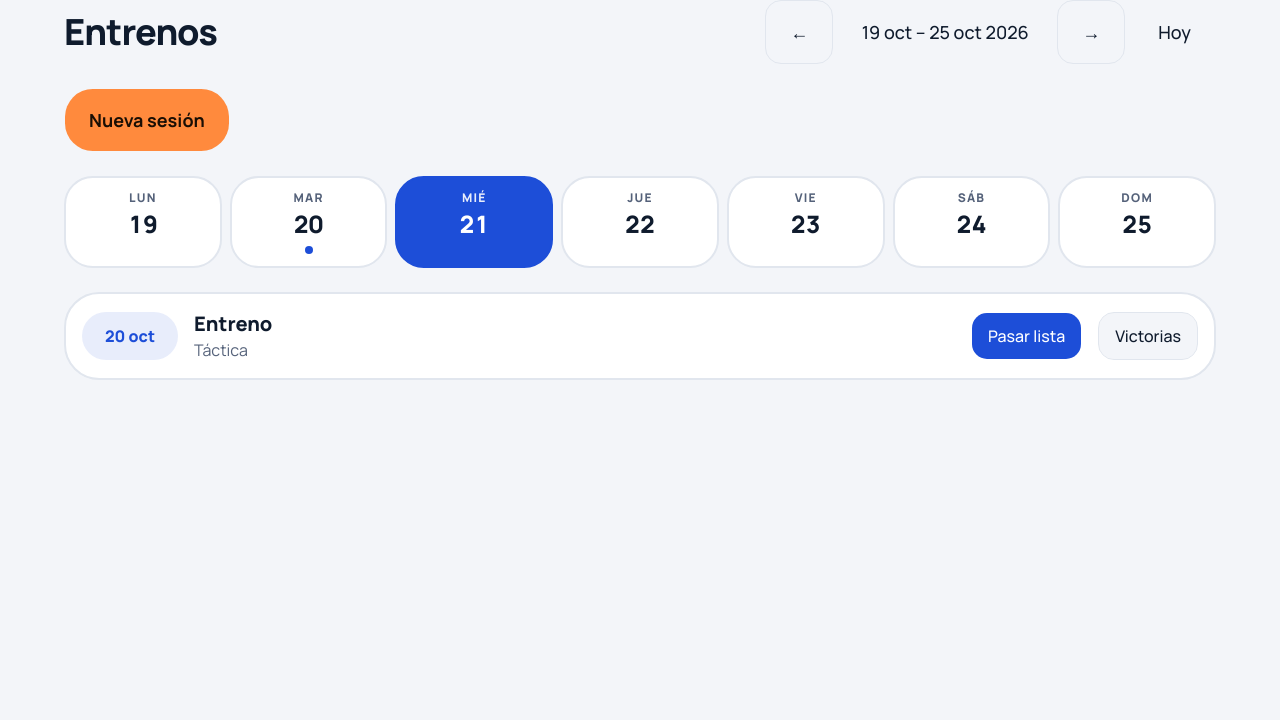
Test: EntrenosPage › pasa lista con todos como asistentes por defecto y guarda los registros
Expected: the text "Táctica" is shown, top-left (194, 339), bottom-right (248, 361)
Click the button with aria-label "Pasar lista: Entreno 20 oct" at (1027, 336), box top-left (971, 312), bottom-right (1082, 360)
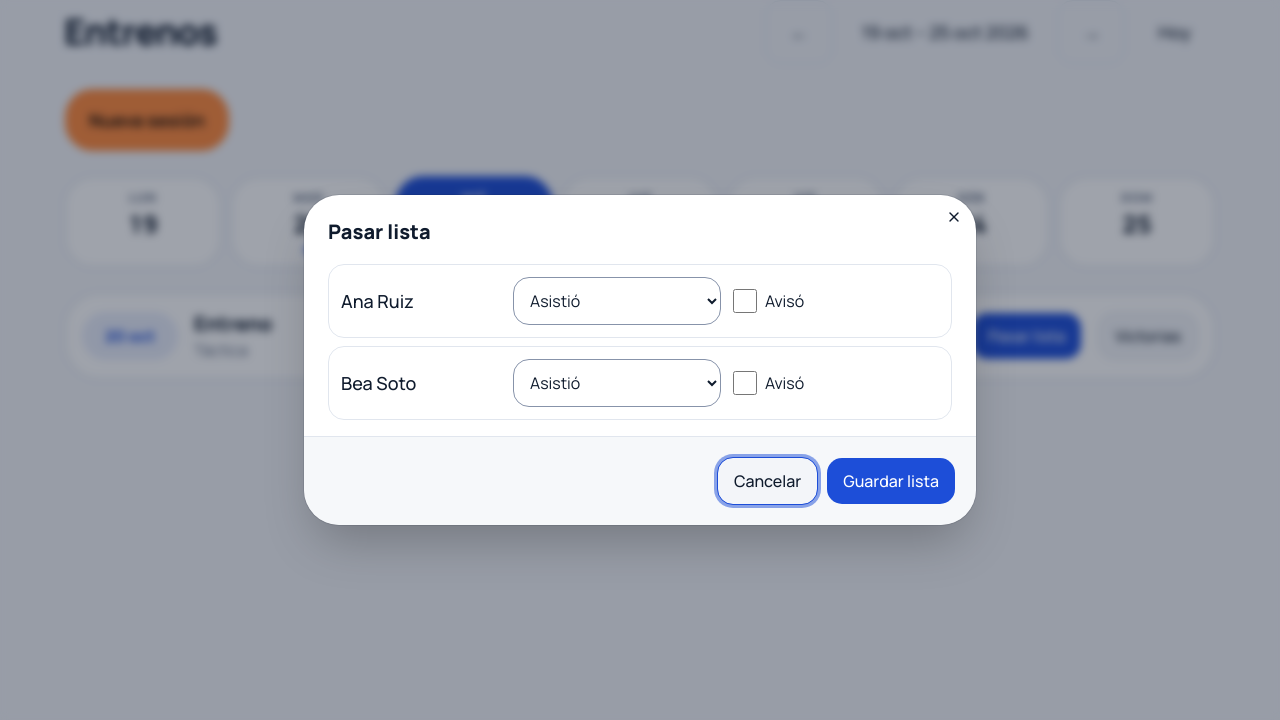
Expected: the text "Ana Ruiz" is shown, top-left (341, 289), bottom-right (414, 313)
Select "Llegó tarde" in the dropdown named "Estado de Bea Soto" at (617, 383), box top-left (513, 359), bottom-right (721, 407)
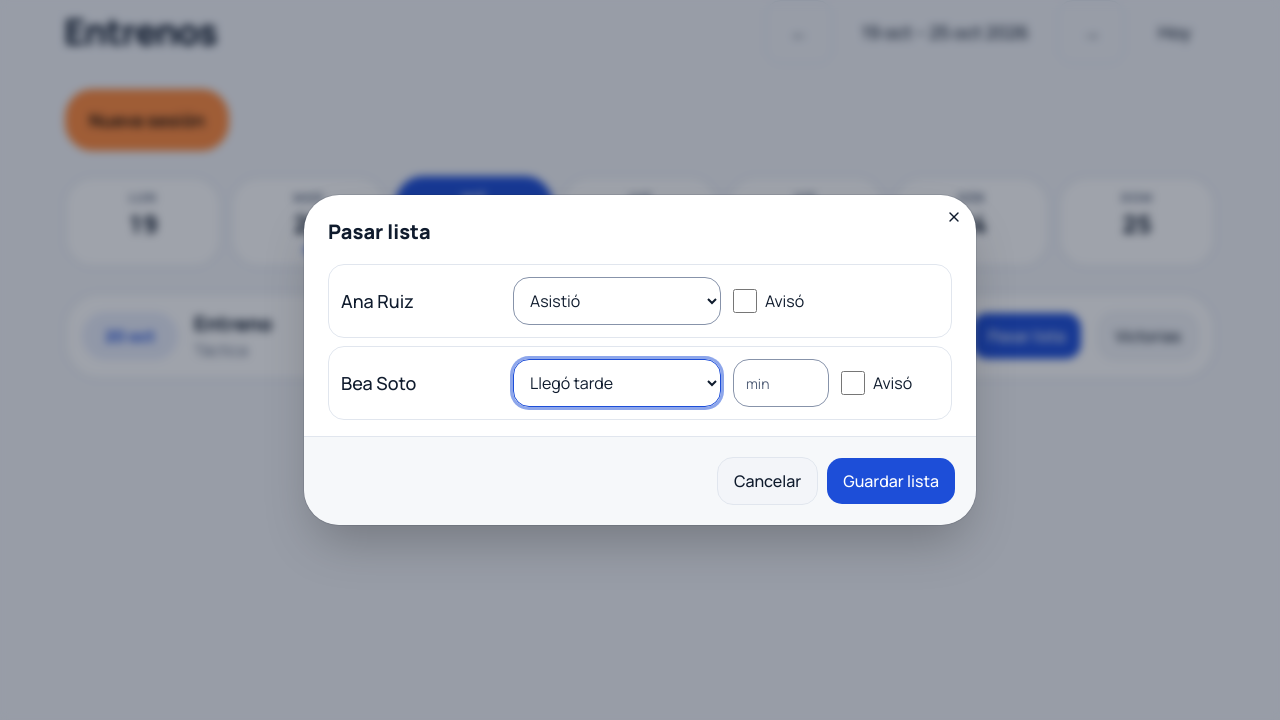
Type "20" into the number field named "Minutos de retraso de Bea Soto" at (781, 383), box top-left (733, 359), bottom-right (829, 407)
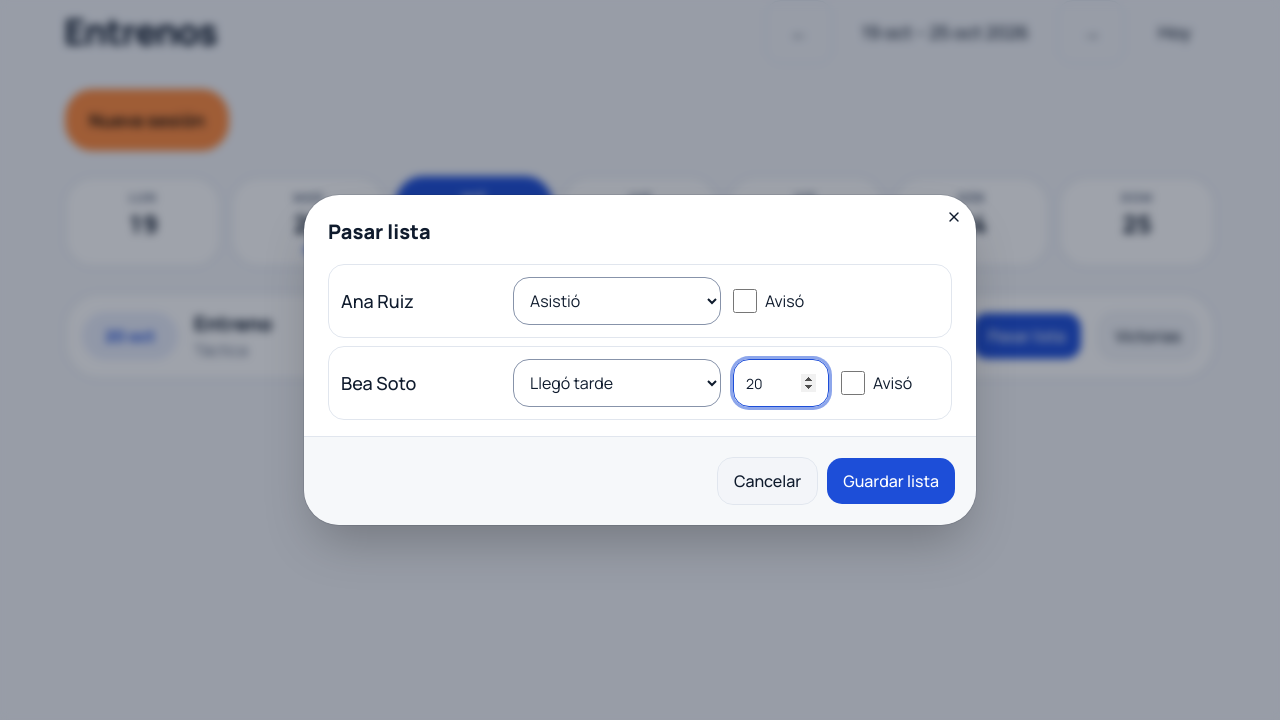
Click the checkbox named "Avisó Bea Soto" at (853, 383), box top-left (841, 371), bottom-right (865, 395)
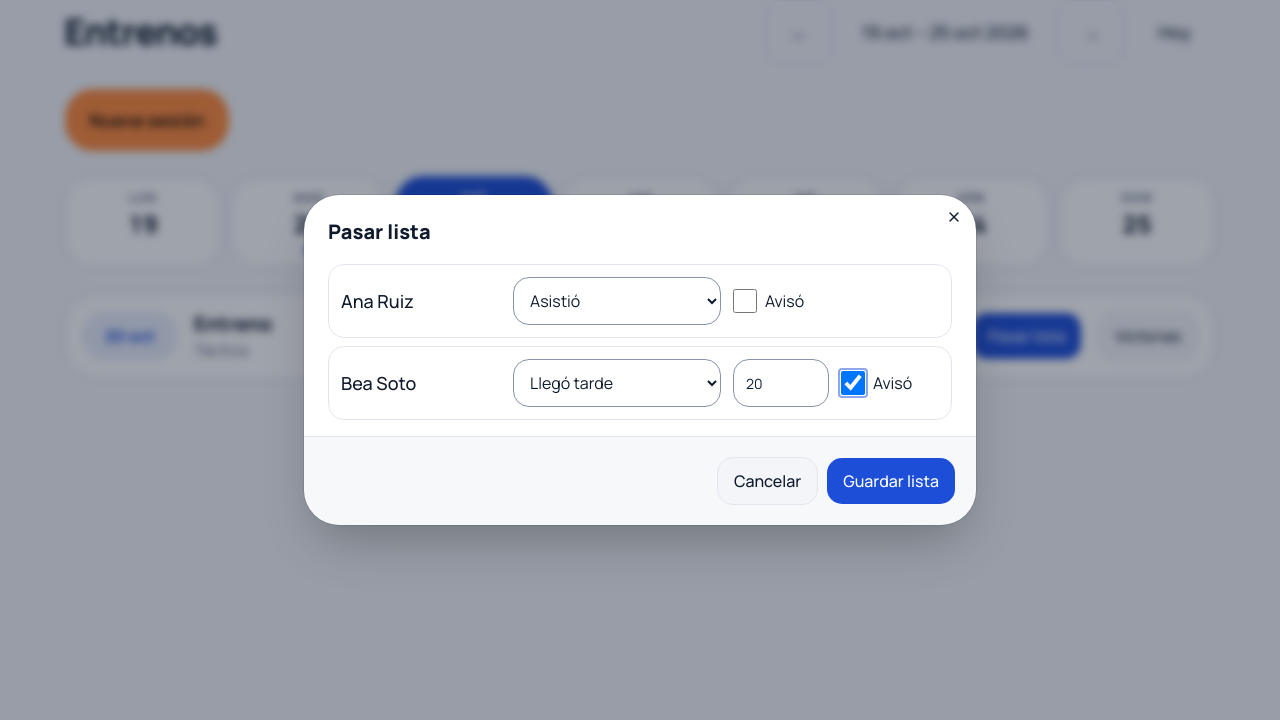
Click the button "Guardar lista" at (891, 481), box top-left (826, 457), bottom-right (956, 505)
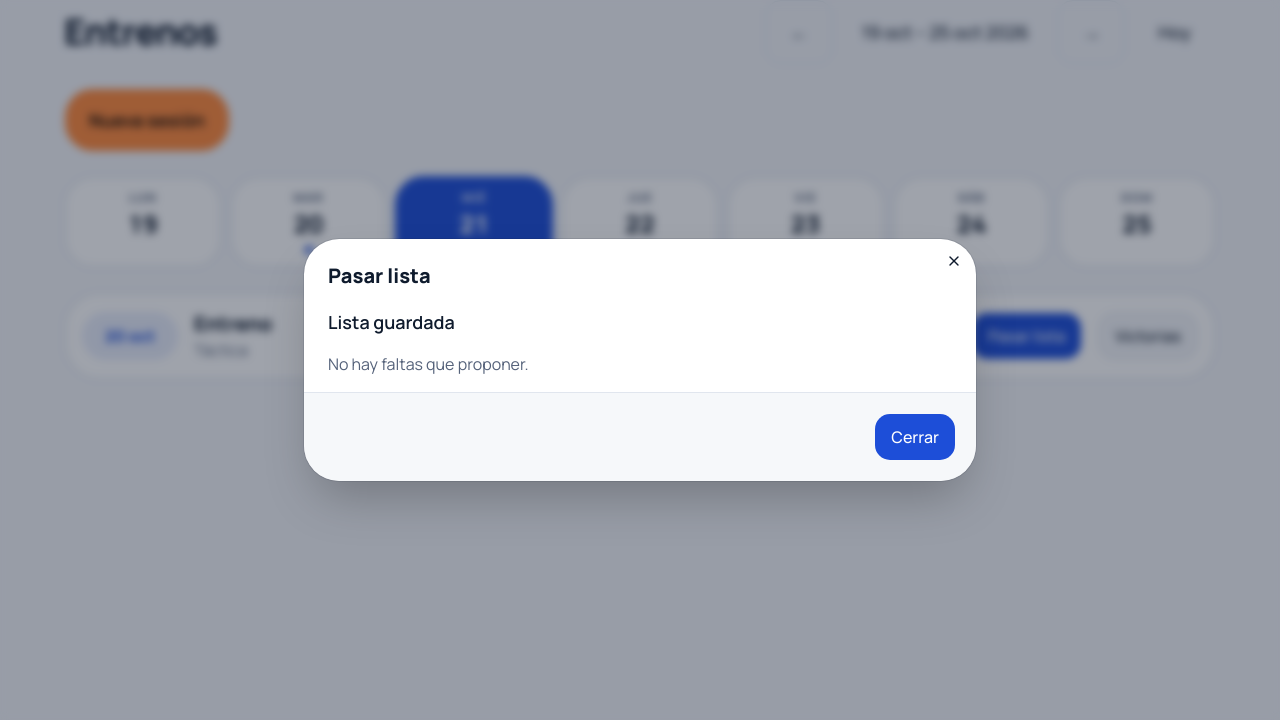
Expected: the text "Lista guardada" is shown, top-left (328, 310), bottom-right (455, 334)
